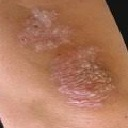Psoriasis: (59, 54, 113, 99), (23, 14, 69, 48)
